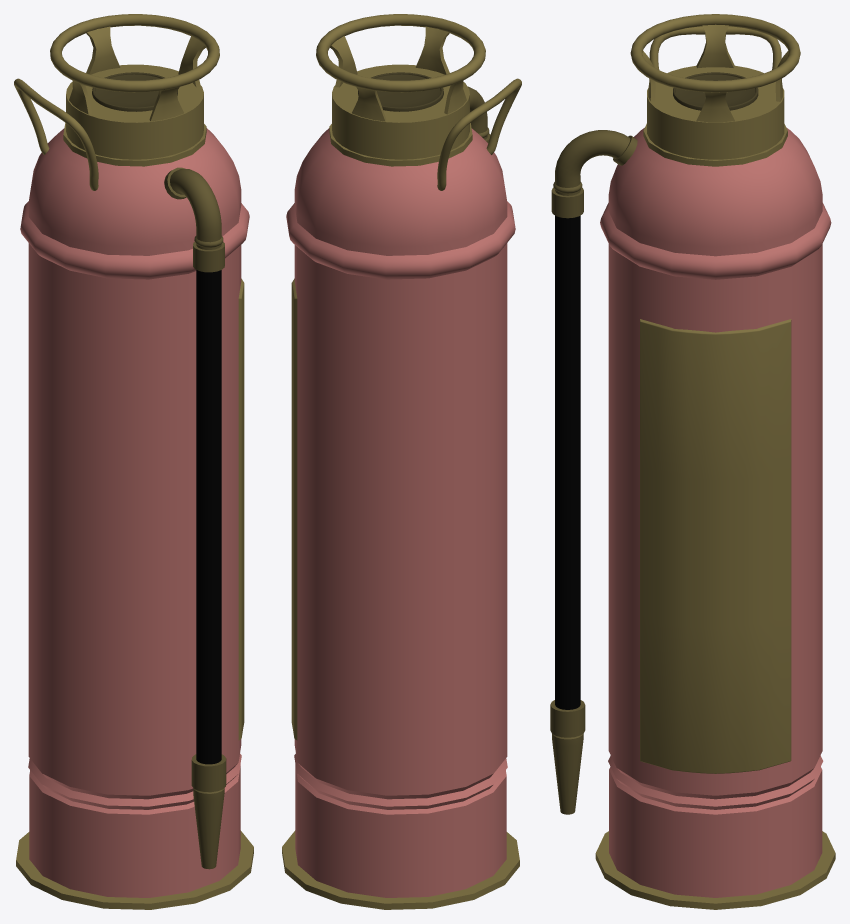
File: Fire_Extinguisher.fbx
3 views of the same model, side by side, from view 1: azimuth 30°, elevation 25°; view 2: azimuth 150°, elevation 25°; view 3: azimuth 270°, elevation 25° (orthographic).
Parts seen in each view (by area): view 1: Cylinder, Cylinder.001, Cylinder.035, Circle, Cylinder.002, NurbsPath, Cylinder.034; view 2: Cylinder, Cylinder.035, Circle, Cylinder.002, NurbsPath, Cylinder.034, Cylinder.001; view 3: Cylinder, Cylinder.002, Cylinder.001, Cylinder.035, Circle, Cylinder.034, NurbsPath.
Part boxes in pixels (x1,y1,x2,y2): Cylinder: (20, 128, 249, 897); Cylinder.001: (164, 167, 226, 869); Cylinder.035: (16, 26, 253, 909); Circle: (50, 14, 219, 92); Cylinder.002: (238, 278, 244, 740); NurbsPath: (14, 78, 98, 190); Cylinder.034: (92, 72, 177, 111); Cylinder: (286, 128, 515, 897); Cylinder.035: (282, 26, 519, 909); Circle: (316, 14, 485, 92); Cylinder.002: (291, 278, 297, 740); NurbsPath: (437, 78, 521, 190); Cylinder.034: (358, 72, 443, 111); Cylinder.001: (468, 86, 490, 142); Cylinder: (600, 128, 831, 897); Cylinder.002: (640, 319, 791, 773); Cylinder.001: (550, 130, 637, 814); Cylinder.035: (595, 24, 835, 909); Circle: (630, 14, 800, 92); Cylinder.034: (673, 72, 758, 110); NurbsPath: (649, 26, 781, 69).
Size of the model in its own units: 27.73 by 104 by 32.97.
